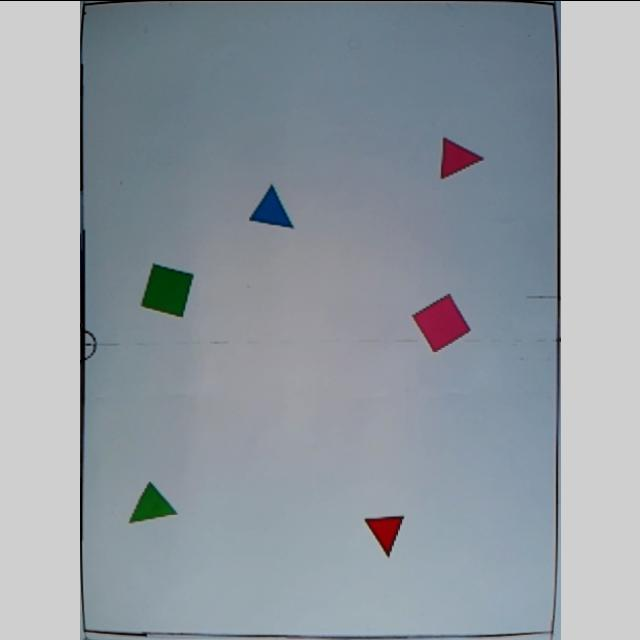blueTriangle: (248, 183, 294, 229)
greenSquare: (138, 262, 192, 318)
greenTriangle: (127, 480, 177, 528)
pinkSquare: (409, 292, 469, 352)
pinkTriangle: (438, 136, 487, 178)
redTriangle: (362, 513, 410, 559)
